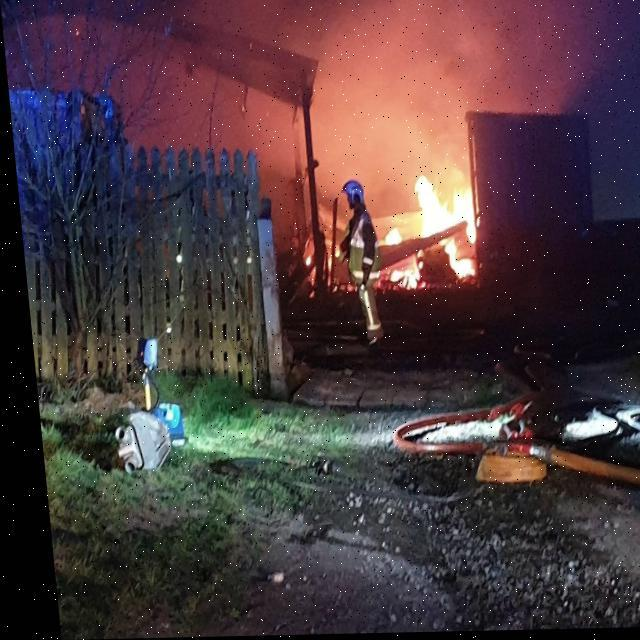Fire: (410, 174, 481, 286), (382, 264, 418, 294), (371, 228, 398, 250)
